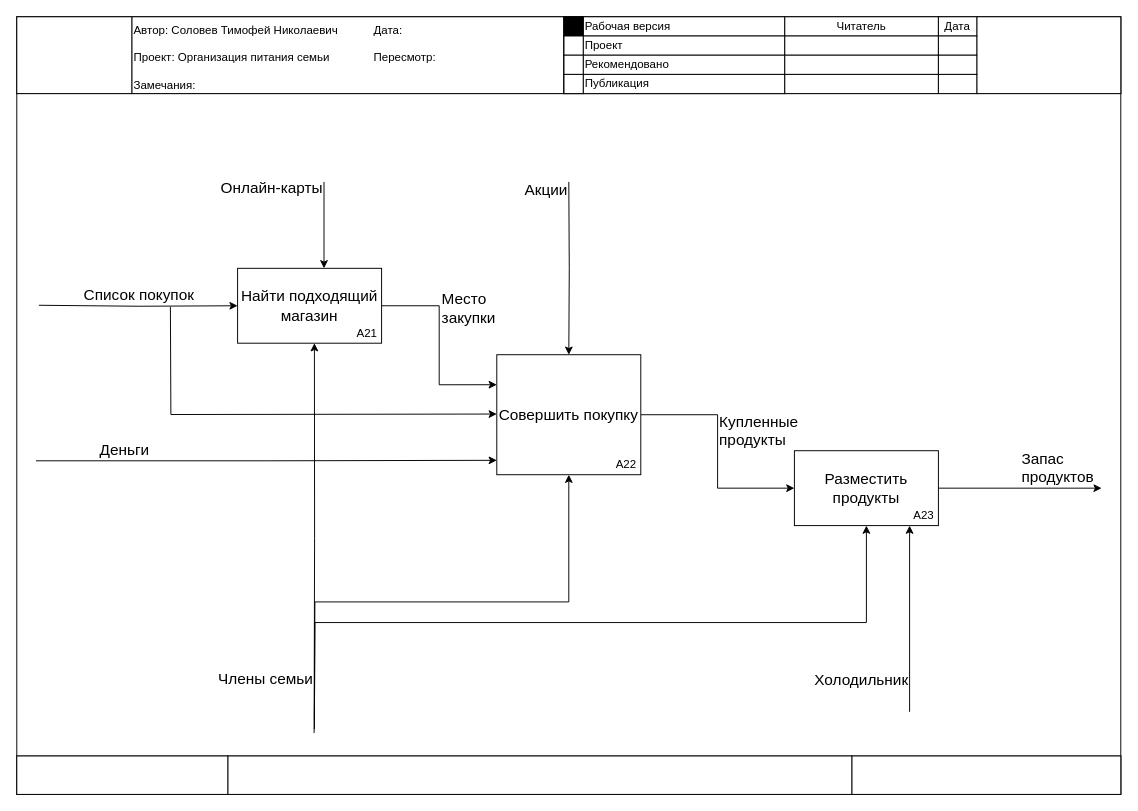
This 1138x811 diagram has some shape labels left out. Each missing label, with the centre of its shape:
"Вершина: A2" goes at (122,774).
"Заголовок: Купить продукты" goes at (539,774).
"Используется в:" goes at (74,55).
"Контекст:" goes at (1048,55).
"Номер:" goes at (986,774).
